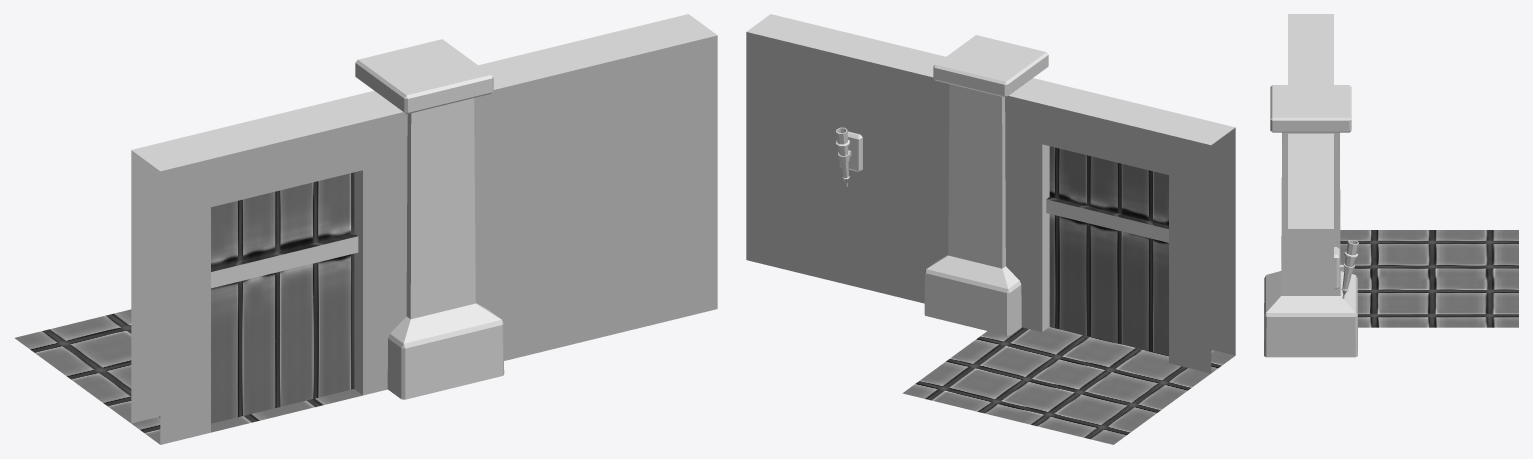
File: Castle Room.fbx
3 renders of one model, left to right at view 1: azimuth 30°, elevation 25°; view 2: azimuth 150°, elevation 25°; view 3: azimuth 270°, elevation 25°, orthographic. The views are drawn at different scales.
Visible parts, largest first — view 1: Dungeon_Wall, Dungeon_Door, Dungeon_Door_Close, Dungeon_Corner, Dungeon_FloorTile; view 2: Dungeon_Wall, Dungeon_Door, Dungeon_Door_Close, Dungeon_FloorTile, Dungeon_Corner, Dungeon_Torch; view 3: Dungeon_FloorTile, Dungeon_Corner, Dungeon_Wall, Dungeon_Door, Dungeon_Torch.
Part boxes in pixels (left/top/right/bottom): Dungeon_Wall: left=474, top=14, right=717, bottom=360; Dungeon_Door: left=131, top=91, right=407, bottom=444; Dungeon_Door_Close: left=211, top=172, right=358, bottom=423; Dungeon_Corner: left=355, top=39, right=504, bottom=399; Dungeon_FloorTile: left=15, top=309, right=362, bottom=444; Dungeon_Wall: left=746, top=14, right=949, bottom=303; Dungeon_Door: left=1005, top=78, right=1235, bottom=373; Dungeon_Door_Close: left=1046, top=146, right=1168, bottom=355; Dungeon_FloorTile: left=902, top=327, right=1234, bottom=444; Dungeon_Corner: left=924, top=35, right=1048, bottom=335; Dungeon_Torch: left=835, top=127, right=862, bottom=186; Dungeon_FloorTile: left=1340, top=230, right=1518, bottom=327; Dungeon_Corner: left=1264, top=85, right=1357, bottom=357; Dungeon_Wall: left=1288, top=133, right=1333, bottom=228; Dungeon_Door: left=1288, top=14, right=1333, bottom=84; Dungeon_Torch: left=1334, top=240, right=1358, bottom=298.
Size of the model in its own units: 1100 by 564 by 552.
